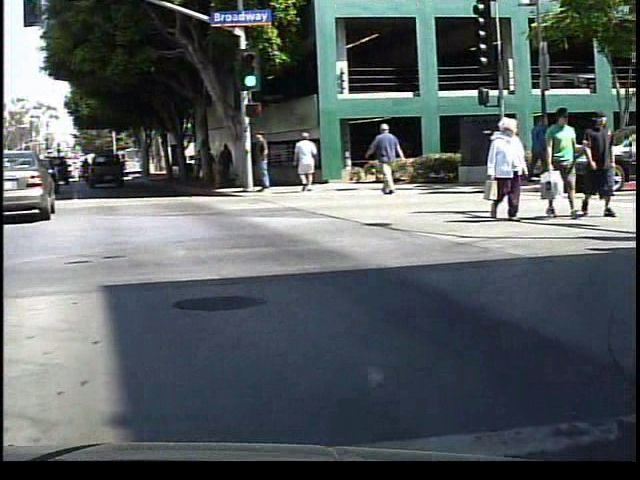person: (487, 116, 540, 226), (547, 105, 585, 221), (585, 107, 623, 218), (371, 122, 411, 195), (528, 110, 557, 186), (257, 124, 284, 199), (298, 130, 326, 195), (221, 138, 242, 190), (209, 145, 224, 188)
